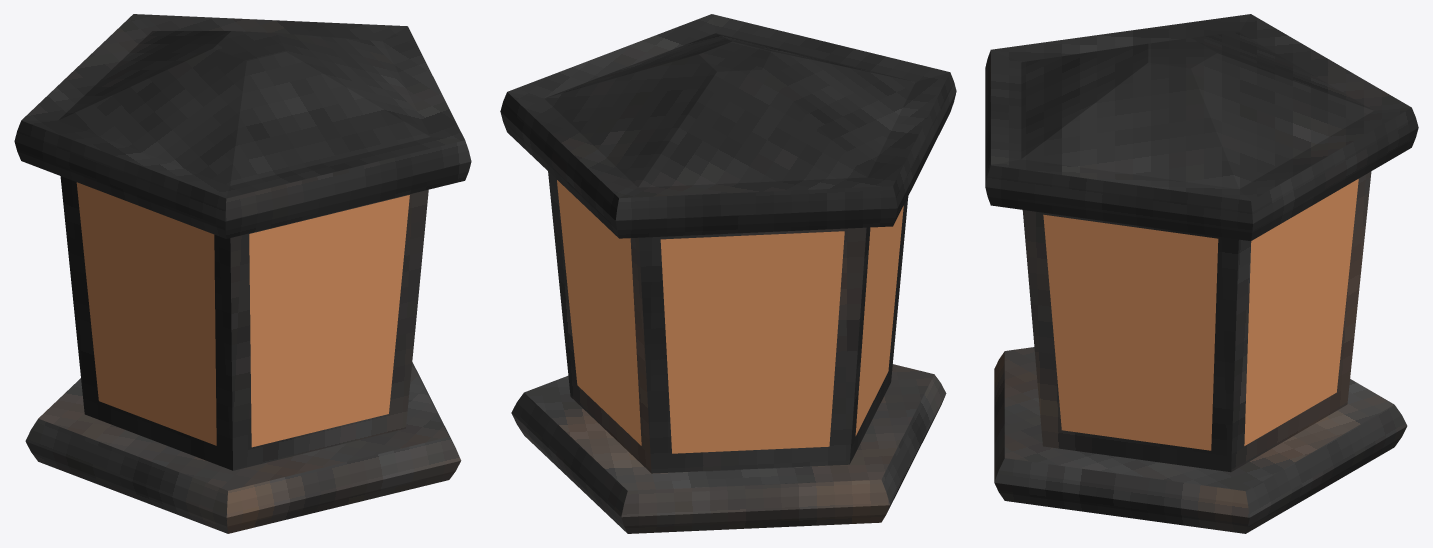
File: Lamp.fbx
3 renders of one model, left to right at view 1: azimuth 30°, elevation 25°; view 2: azimuth 150°, elevation 25°; view 3: azimuth 270°, elevation 25°, orthographic.
Visible parts, largest first — view 1: Lamp; view 2: Lamp; view 3: Lamp.
Part boxes in pixels (<box>): Lamp: <box>14,14,471,533</box>; Lamp: <box>500,14,956,533</box>; Lamp: <box>985,14,1418,533</box>.
Size of the model in its own units: 59.59 by 56.87 by 56.67.
Materials: 2 (1 with a texture image).
